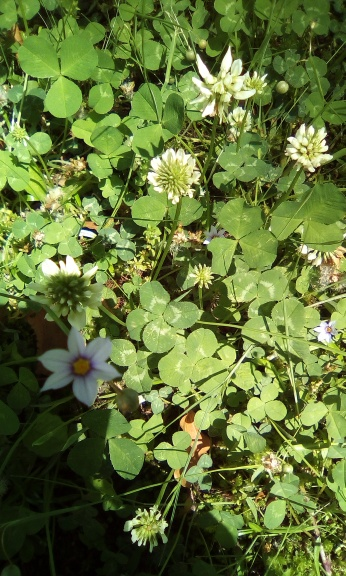4leaf: (125, 280, 201, 355)
